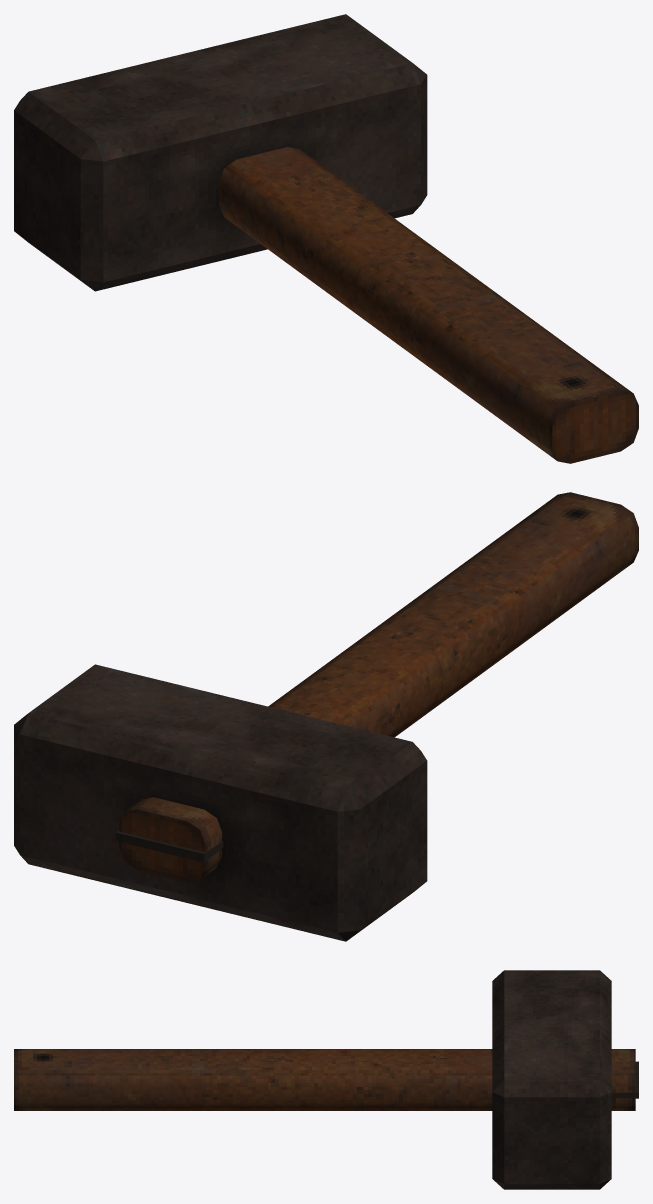
File: hammer_mx_1.glb
3 views of the same model, one above another, from view 1: azimuth 30°, elevation 25°; view 2: azimuth 150°, elevation 25°; view 3: azimuth 270°, elevation 25° (orthographic). The views are drawn at different scales.
Parts seen in each view (by area): view 1: hammer_mx_1; view 2: hammer_mx_1; view 3: hammer_mx_1.
Boxes of the visible parts, bbox=[...] form: hammer_mx_1: bbox=[14, 14, 638, 463]; hammer_mx_1: bbox=[14, 492, 638, 941]; hammer_mx_1: bbox=[14, 970, 638, 1189].
Size of the model in its own units: 0.24 by 0.1 by 0.5227.
1 material, 1 textured.
